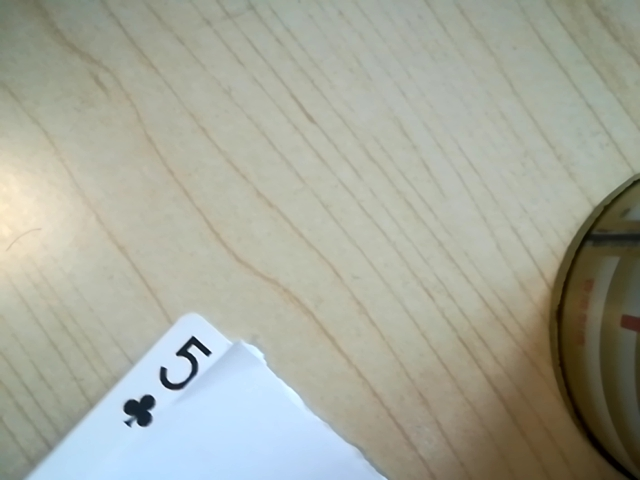mh 5: (115, 335, 222, 433)
